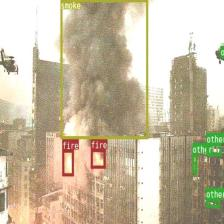fire: (90, 149, 106, 168), (62, 150, 73, 176)
smoke: (60, 0, 148, 138)
